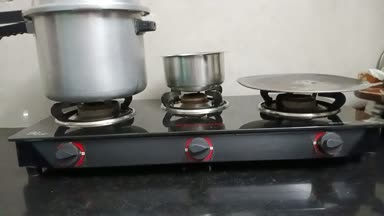flame_gas_off: (259, 91, 364, 161), (41, 100, 134, 174), (163, 89, 232, 165)
